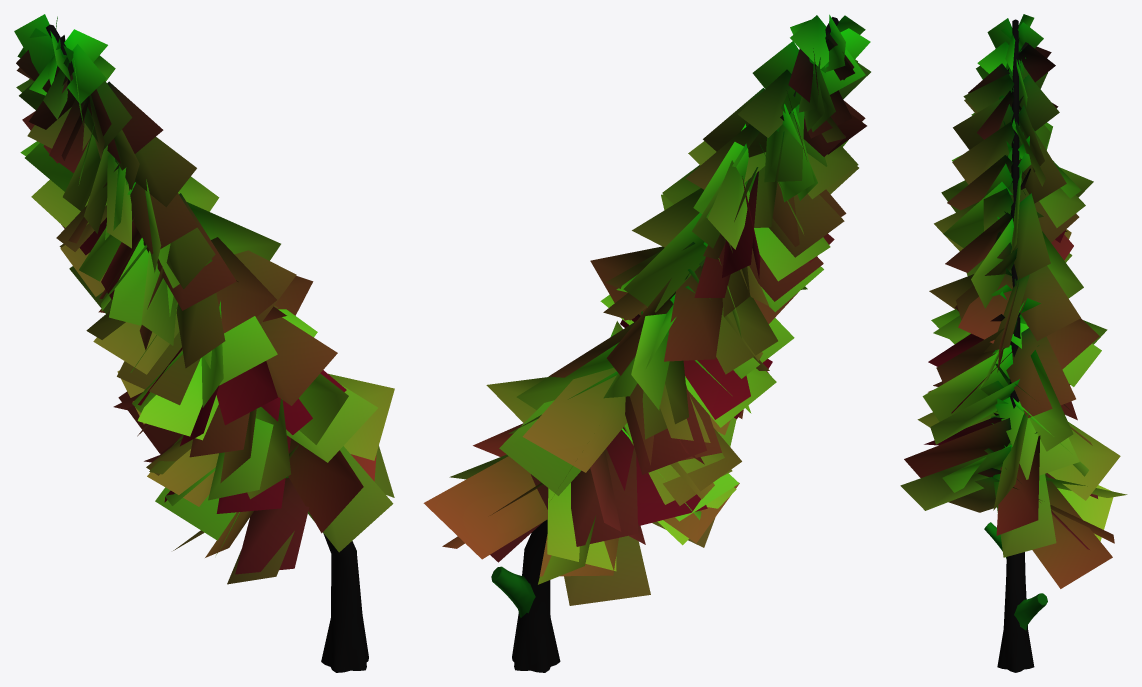
The model's file is M_Pine_2_12.fbx.
3 renders of one model, left to right at view 1: azimuth 30°, elevation 25°; view 2: azimuth 150°, elevation 25°; view 3: azimuth 270°, elevation 25°, orthographic. The views are drawn at different scales.
Parts seen in each view (by area): view 1: Tree_12; view 2: Tree_12; view 3: Tree_12.
Boxes of the visible parts, left/top/right/bottom form: Tree_12: left=14, top=14, right=394, bottom=672; Tree_12: left=423, top=14, right=870, bottom=672; Tree_12: left=900, top=14, right=1127, bottom=672.
Bounding box in the file's own units: 1367 × 2459 × 937.
